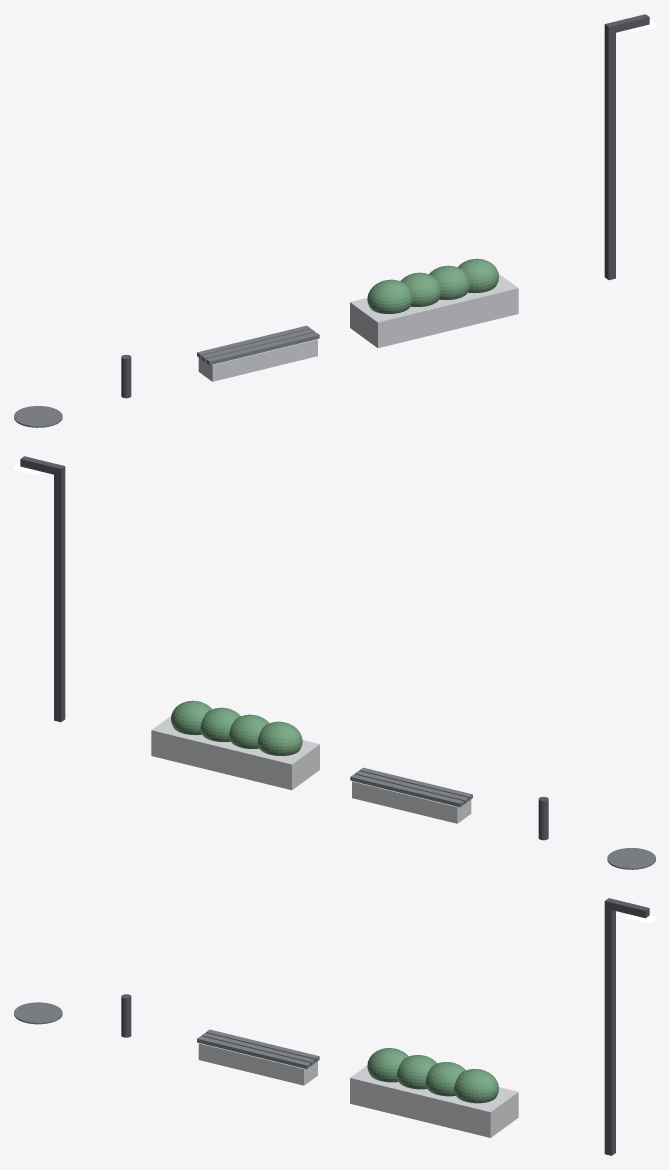
File: props_street_set.glb
The picture shows the model from 3 angles, top to bottom: view 1: azimuth 30°, elevation 25°; view 2: azimuth 150°, elevation 25°; view 3: azimuth 330°, elevation 25°; orthographic projection.
Visible parts, largest first — view 1: Prop_Planter_Box, Prop_StreetLight_Pole, Prop_Bench_Base, Prop_Planter_Bush_0, Prop_Planter_Bush_3, Prop_Planter_Bush_2, Prop_Planter_Bush_1, Prop_Manhole, Prop_Bench_Slat_0; view 2: Prop_Planter_Box, Prop_StreetLight_Pole, Prop_Bench_Base, Prop_Planter_Bush_0, Prop_Planter_Bush_3, Prop_Planter_Bush_2, Prop_Planter_Bush_1, Prop_Manhole, Prop_Bench_Slat_2; view 3: Prop_Planter_Box, Prop_StreetLight_Pole, Prop_Bench_Base, Prop_Planter_Bush_3, Prop_Planter_Bush_0, Prop_Planter_Bush_1, Prop_Planter_Bush_2, Prop_Manhole, Prop_Bench_Slat_0, Prop_Bench_Slat_2, Prop_Bench_Slat_1, Prop_StreetLight_Arm (+1 smaller).
Boxes of the visible parts, x1,y1,x2,y2 form: Prop_Planter_Box: [350, 274, 518, 348]; Prop_StreetLight_Pole: [604, 22, 615, 280]; Prop_Bench_Base: [198, 339, 317, 381]; Prop_Planter_Bush_0: [367, 279, 412, 313]; Prop_Planter_Bush_3: [457, 258, 498, 293]; Prop_Planter_Bush_2: [429, 265, 469, 299]; Prop_Planter_Bush_1: [400, 272, 440, 306]; Prop_Manhole: [14, 406, 62, 427]; Prop_Bench_Slat_0: [206, 332, 319, 365]; Prop_Planter_Box: [151, 716, 319, 790]; Prop_StreetLight_Pole: [54, 464, 65, 722]; Prop_Bench_Base: [352, 781, 471, 823]; Prop_Planter_Bush_0: [257, 721, 302, 755]; Prop_Planter_Bush_3: [171, 700, 212, 735]; Prop_Planter_Bush_2: [200, 707, 240, 741]; Prop_Planter_Bush_1: [229, 714, 269, 748]; Prop_Manhole: [607, 848, 655, 869]; Prop_Bench_Slat_2: [350, 774, 463, 807]; Prop_Planter_Box: [350, 1065, 518, 1137]; Prop_StreetLight_Pole: [604, 898, 615, 1155]; Prop_Bench_Base: [198, 1043, 317, 1085]; Prop_Planter_Bush_3: [454, 1069, 498, 1103]; Prop_Planter_Bush_0: [367, 1048, 408, 1082]; Prop_Planter_Bush_1: [397, 1055, 437, 1089]; Prop_Planter_Bush_2: [425, 1062, 465, 1096]; Prop_Manhole: [14, 1002, 62, 1024]; Prop_Bench_Slat_0: [197, 1036, 310, 1068]; Prop_Bench_Slat_2: [206, 1029, 319, 1062]; Prop_Bench_Slat_1: [201, 1033, 314, 1065]; Prop_StreetLight_Arm: [606, 898, 649, 918].
Bounding box in the file's own units: 14.45 × 5.5 × 1.1.
